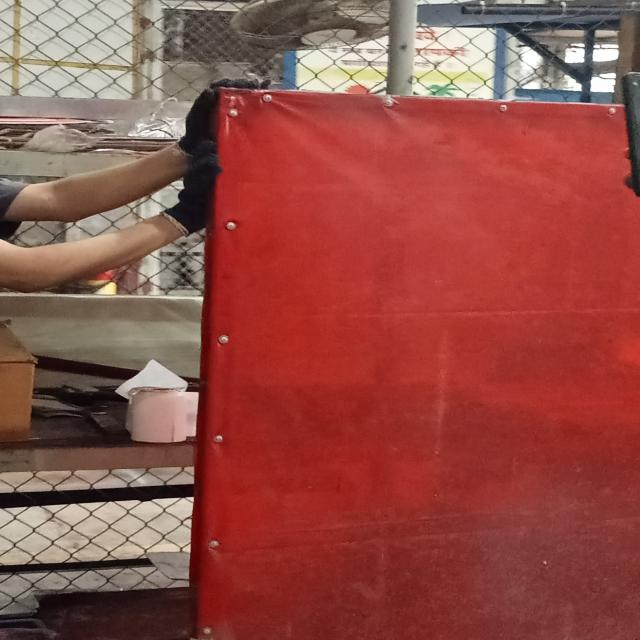Gloves-Detection: (192, 103, 223, 224)
